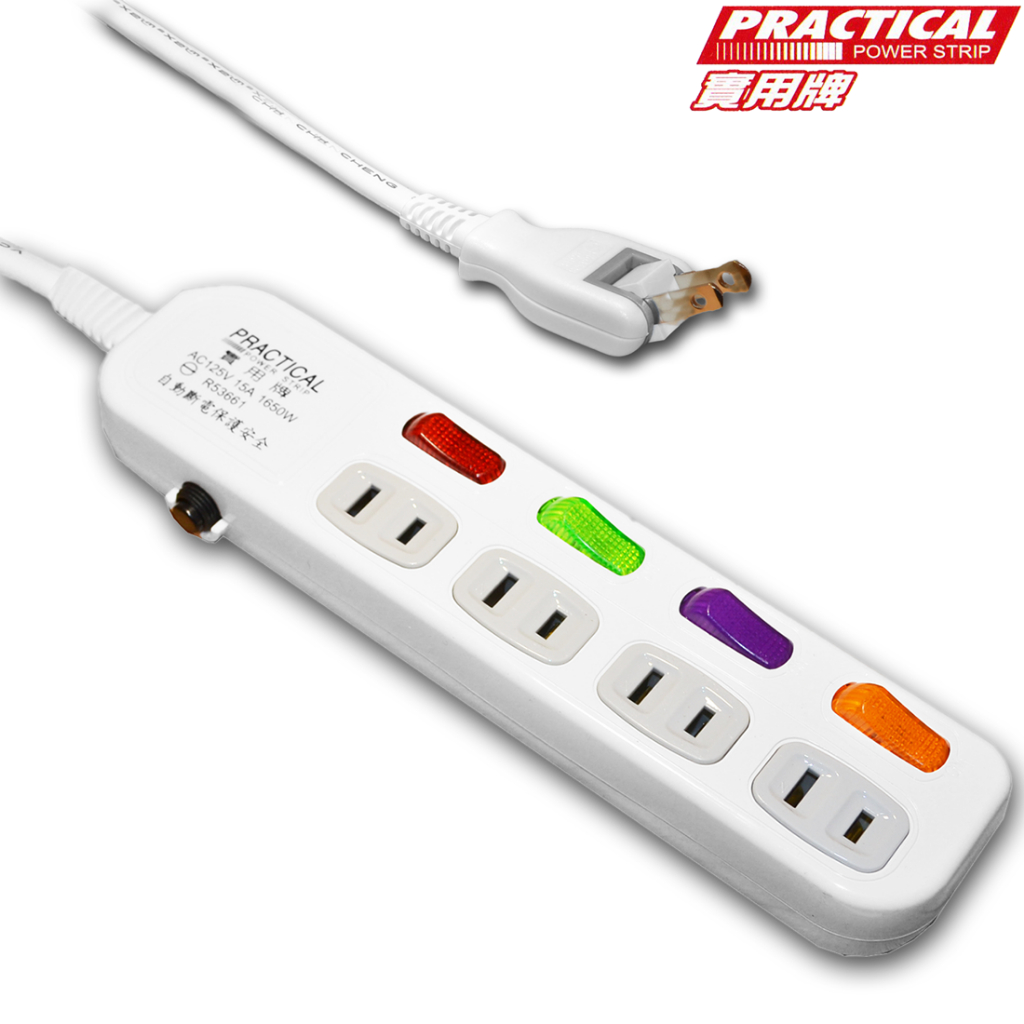socket: (48, 261, 1015, 966)
